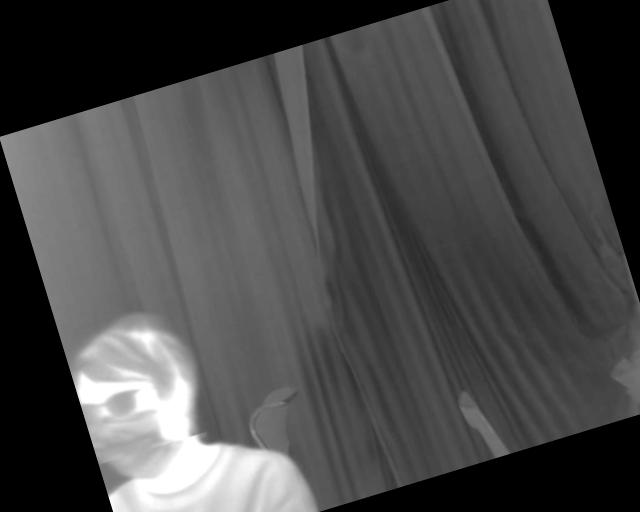face: (63, 302, 224, 492)
